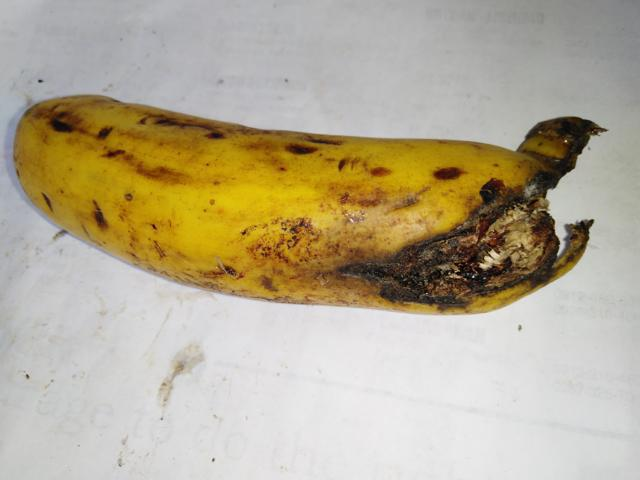rotten: (353, 109, 632, 352)
